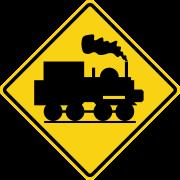Barrier Ahead: (11, 11, 173, 167)
